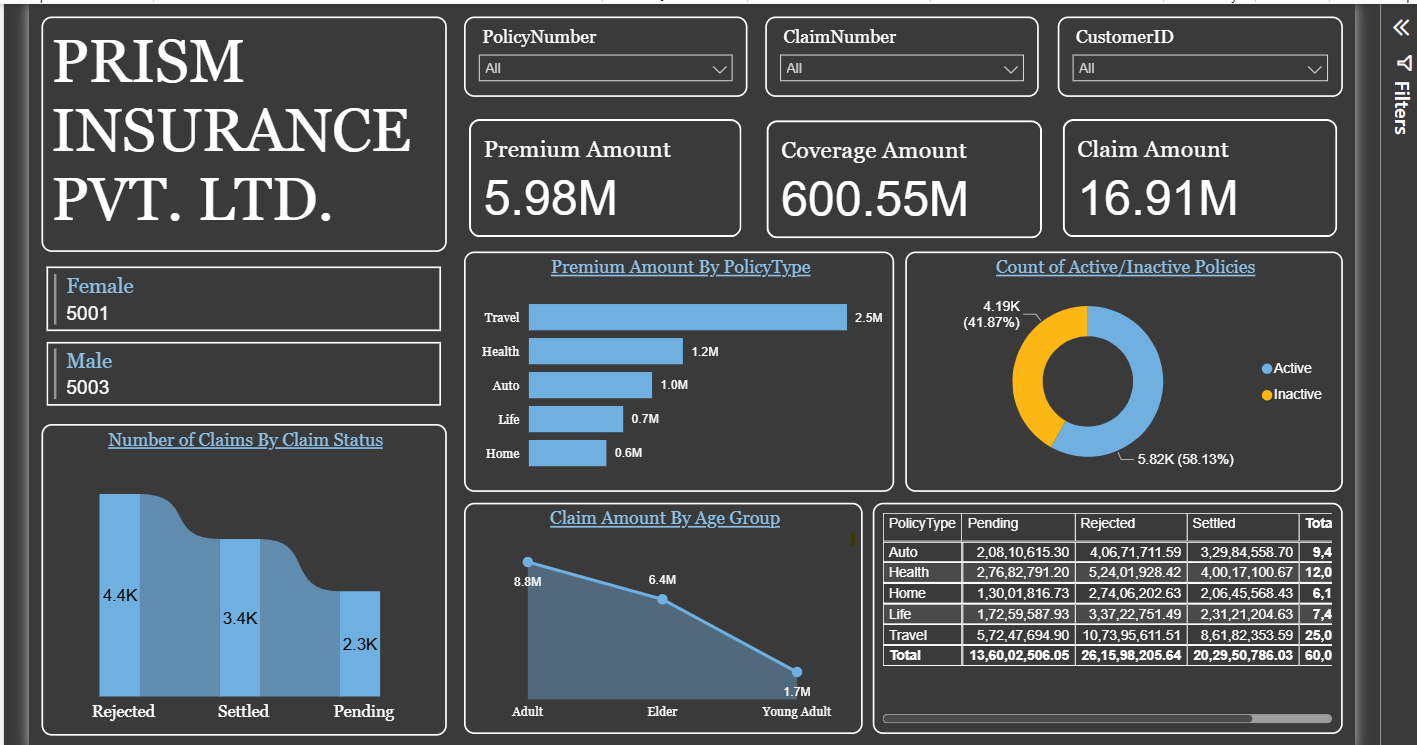

Layout of this report page (visuals, bound fields, positions):
{"tool":"powerbi","page":{"name":"Overview","canvas":[1280,720],"ordinal":0},"visuals":[{"type":"slicer","fields":{"Values":["InsuranceData.PolicyNumber"]},"box":[419.8,12.1,273.9,77.2],"z":0},{"type":"slicer","fields":{"Values":["InsuranceData.ClaimNumber"]},"box":[710.6,12.1,264.2,77.2],"z":1000},{"type":"slicer","fields":{"Values":["InsuranceData.CustomerID"]},"box":[992.9,12.1,275.1,77.2],"z":2000},{"type":"textbox","box":[12.1,12.1,390.9,226.8],"z":3000},{"type":"cardVisual","fields":{"Data":["Sum(InsuranceData.PremiumAmount)"]},"box":[419.8,106.2,273.9,124.3],"z":4000},{"type":"cardVisual","fields":{"Data":["Sum(InsuranceData.CoverageAmount)"]},"box":[707,107.4,276.3,124.3],"z":5000},{"type":"cardVisual","fields":{"Data":["Sum(InsuranceData.ClaimAmount)"]},"box":[992.9,106.2,275.1,124.3],"z":6000},{"type":"multiRowCard","fields":{"Values":["InsuranceData.Gender","CountNonNull(InsuranceData.Gender)"]},"box":[12.1,248.5,390.9,156.8],"z":7000},{"type":"ribbonChart","title":"Number of Claims By Claim Status","fields":{"Category":["InsuranceData.ClaimStatus"],"Y":["CountNonNull(InsuranceData.ClaimStatus)"]},"box":[12.1,405.4,390.9,300.4],"z":8000},{"type":"barChart","title":"Premium Amount By PolicyType","fields":{"Category":["InsuranceData.PolicyType"],"Y":["Sum(InsuranceData.PremiumAmount)"]},"box":[419.8,238.9,415,231.6],"z":9000},{"type":"lineChart","title":"Claim Amount By Age Group","fields":{"Category":["InsuranceData.Age Group"],"Y":["Sum(InsuranceData.ClaimAmount)"]},"box":[419.8,481.4,384.9,223.2],"z":10000},{"type":"donutChart","title":"Count of Active/Inactive Policies","fields":{"Category":["InsuranceData.Active/Inactive"],"Y":["CountNonNull(InsuranceData.Active/Inactive)"]},"box":[845.7,238.9,422.3,231.6],"z":11000},{"type":"pivotTable","fields":{"Values":["Sum(InsuranceData.CoverageAmount)"],"Rows":["InsuranceData.PolicyType"],"Columns":["InsuranceData.ClaimStatus"]},"box":[814.3,481.4,453.6,223.2],"z":12000}]}

Visuals, with their boxes on the page's 1280x720 design canvas (x1, y1, x2, y2). These are canvas units, not pixel positions in the 1417x745 screenshot, which may show the page scaled, cropped or inside an application window:
slicer - InsuranceData.PolicyNumber: <region>420, 12, 694, 89</region>
slicer - InsuranceData.ClaimNumber: <region>711, 12, 975, 89</region>
slicer - InsuranceData.CustomerID: <region>993, 12, 1268, 89</region>
textbox: <region>12, 12, 403, 239</region>
cardVisual - Sum(InsuranceData.PremiumAmount): <region>420, 106, 694, 230</region>
cardVisual - Sum(InsuranceData.CoverageAmount): <region>707, 107, 983, 232</region>
cardVisual - Sum(InsuranceData.ClaimAmount): <region>993, 106, 1268, 230</region>
multiRowCard - InsuranceData.Gender x CountNonNull(InsuranceData.Gender): <region>12, 248, 403, 405</region>
"Number of Claims By Claim Status" ribbonChart: <region>12, 405, 403, 706</region>
"Premium Amount By PolicyType" barChart: <region>420, 239, 835, 470</region>
"Claim Amount By Age Group" lineChart: <region>420, 481, 805, 705</region>
"Count of Active/Inactive Policies" donutChart: <region>846, 239, 1268, 470</region>
pivotTable - Sum(InsuranceData.CoverageAmount) x InsuranceData.PolicyType: <region>814, 481, 1268, 705</region>
